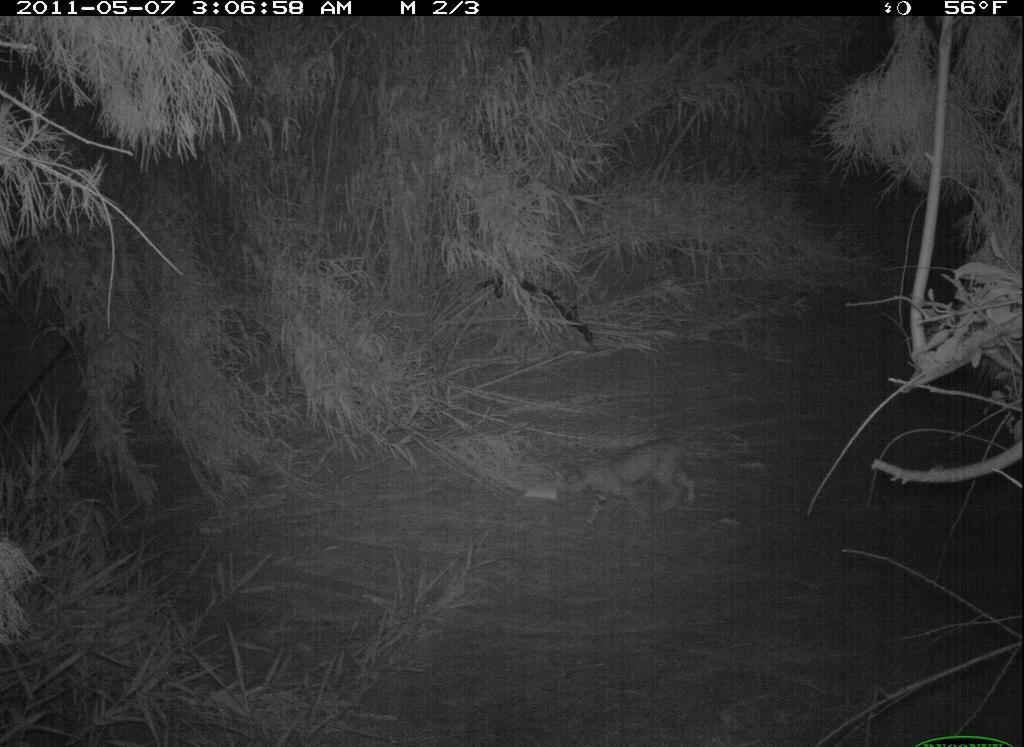bobcat: (551, 428, 708, 536)
